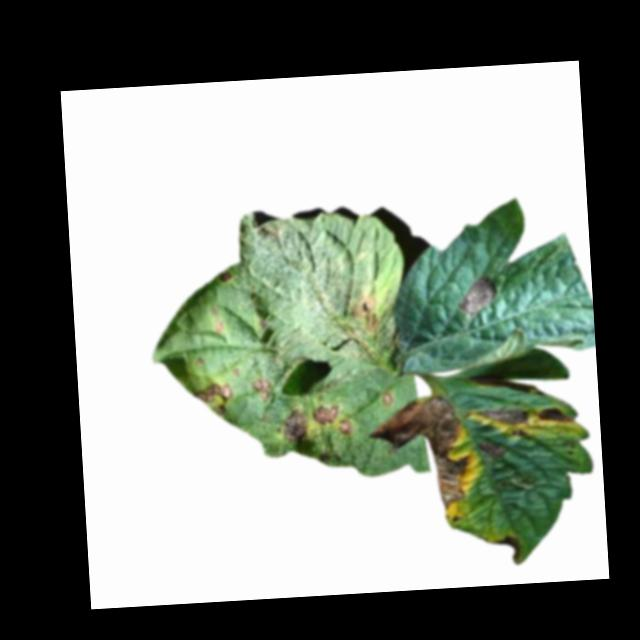Early_blight: (367, 395, 475, 517), (456, 278, 502, 321), (194, 380, 234, 419), (348, 290, 382, 334), (474, 407, 532, 429), (283, 408, 309, 443), (478, 438, 508, 462), (313, 402, 343, 425), (494, 537, 522, 561), (537, 405, 570, 425), (253, 376, 273, 403), (339, 418, 357, 436), (381, 392, 394, 408), (220, 268, 232, 284)
